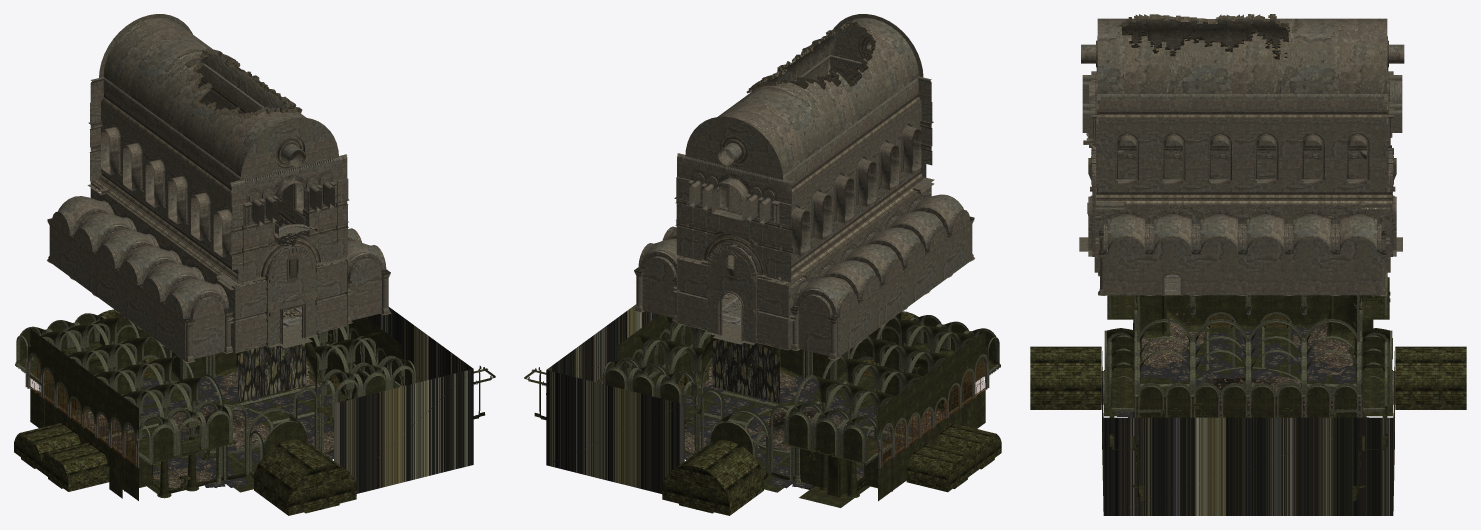
The model's file is map_part3.fbx.
3 views of the same model, side by side, from view 1: azimuth 30°, elevation 25°; view 2: azimuth 150°, elevation 25°; view 3: azimuth 270°, elevation 25° (orthographic). The views are drawn at different scales.
Visible parts, largest first — view 1: m0200B1A18, m0201B1A18, m0300B1A18, m0320B1A18, m0310B1A18, m0301B1A18, m0210B1A18; view 2: m0201B1A18, m0200B1A18, m0300B1A18, m0320B1A18, m0310B1A18, m0301B1A18, m0210B1A18; view 3: m0320B1A18, m0201B1A18, m0200B1A18, m0300B1A18, m0301B1A18, m0310B1A18, m0210B1A18.
Boxes of the visible parts, x1,y1,x2,y2 form: m0200B1A18: (49, 151, 388, 360); m0201B1A18: (87, 14, 338, 240); m0300B1A18: (14, 309, 366, 515); m0320B1A18: (208, 307, 495, 493); m0310B1A18: (15, 313, 237, 498); m0301B1A18: (73, 358, 341, 489); m0210B1A18: (47, 218, 391, 362); m0201B1A18: (674, 14, 923, 287); m0200B1A18: (636, 55, 972, 357); m0300B1A18: (652, 311, 1001, 515); m0320B1A18: (524, 304, 809, 493); m0310B1A18: (780, 315, 1000, 498); m0301B1A18: (684, 359, 944, 488); m0210B1A18: (633, 216, 974, 360); m0320B1A18: (1102, 318, 1394, 515); m0201B1A18: (1081, 14, 1404, 209); m0200B1A18: (1079, 71, 1402, 295); m0300B1A18: (1030, 295, 1466, 416); m0301B1A18: (1115, 309, 1368, 417); m0310B1A18: (1107, 272, 1390, 359); m0210B1A18: (1098, 231, 1387, 295).
Bounding box in the file's own units: 44.87 × 44.84 × 42.35.
